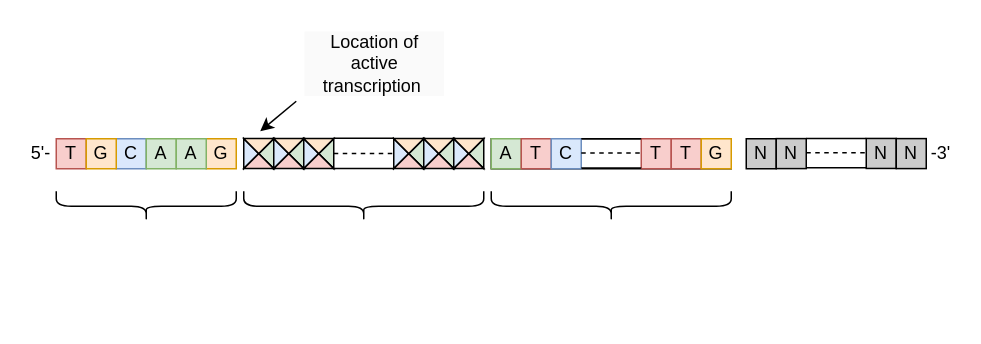
The diagram is 981 pixels wide and 344 high, and some of its shapes have lost their labels. The shapes that lost their labels are listed below. From the top down, each one's box as (x1, y1, x2, y2) in pixels, then its label:
(55, 190, 236, 221): UMI (random hexamer)
(242, 190, 484, 221): NET-seq read ~ 44 nt
(490, 190, 731, 221): 3'-end adapter
